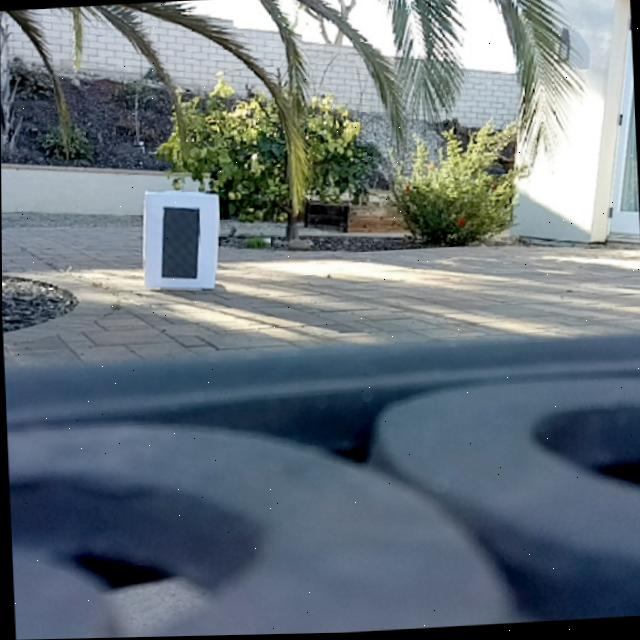led: (158, 203, 203, 282)
